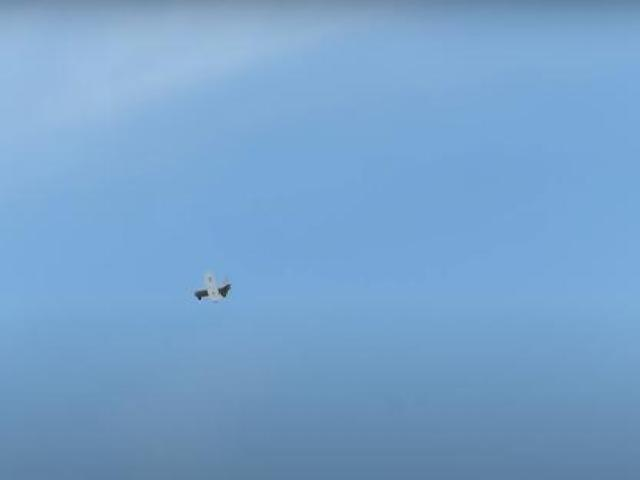uav: (188, 262, 235, 315)
